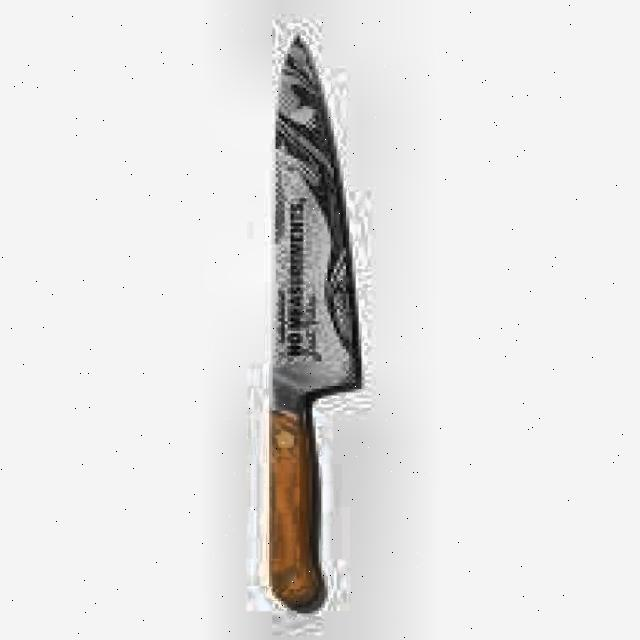knife: (270, 24, 367, 620)
